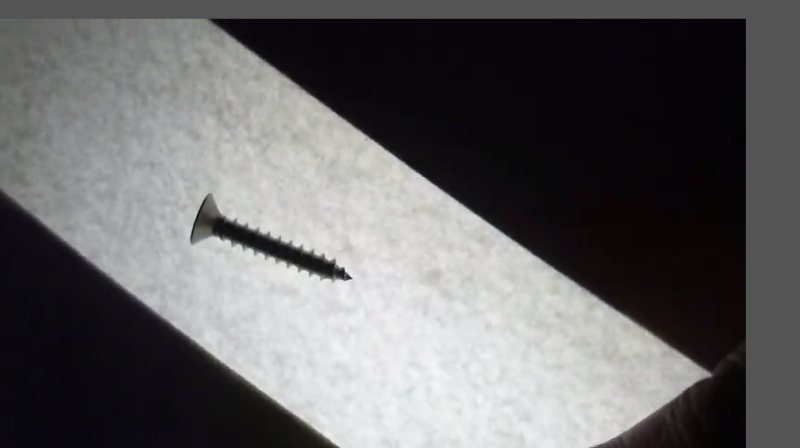S001: (187, 190, 358, 285)
